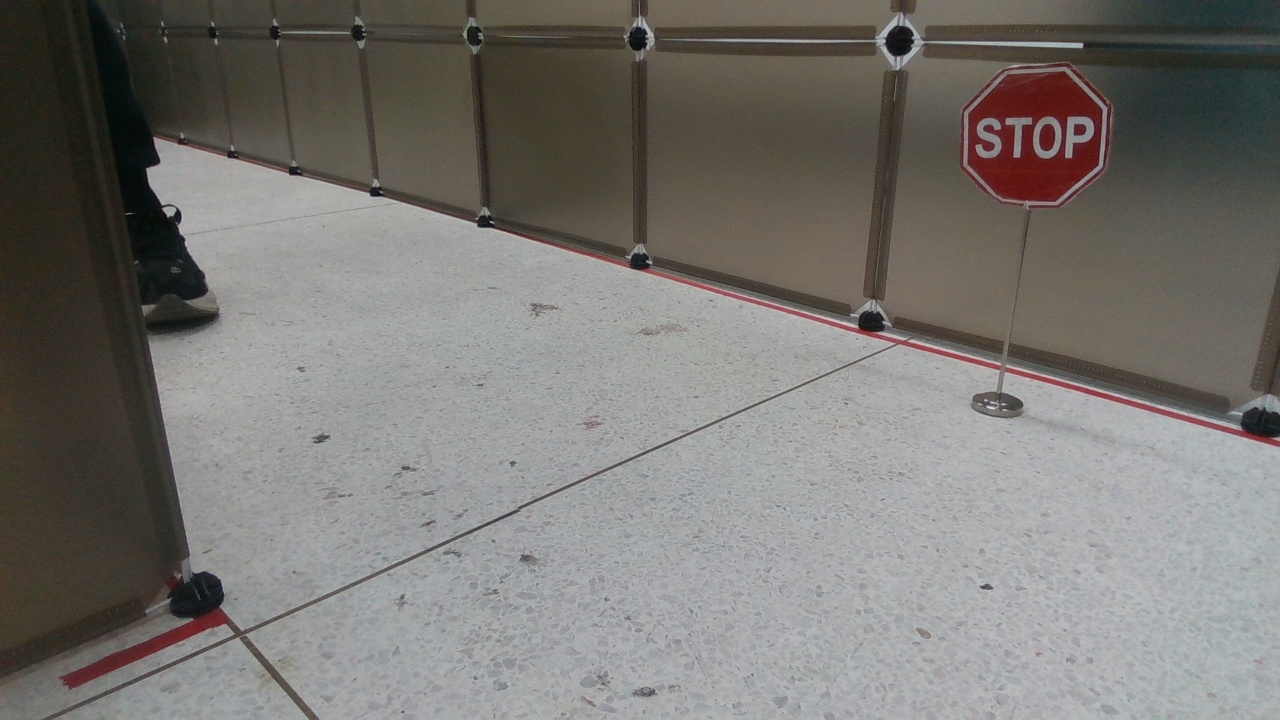Stop sign: (961, 63, 1112, 207)
